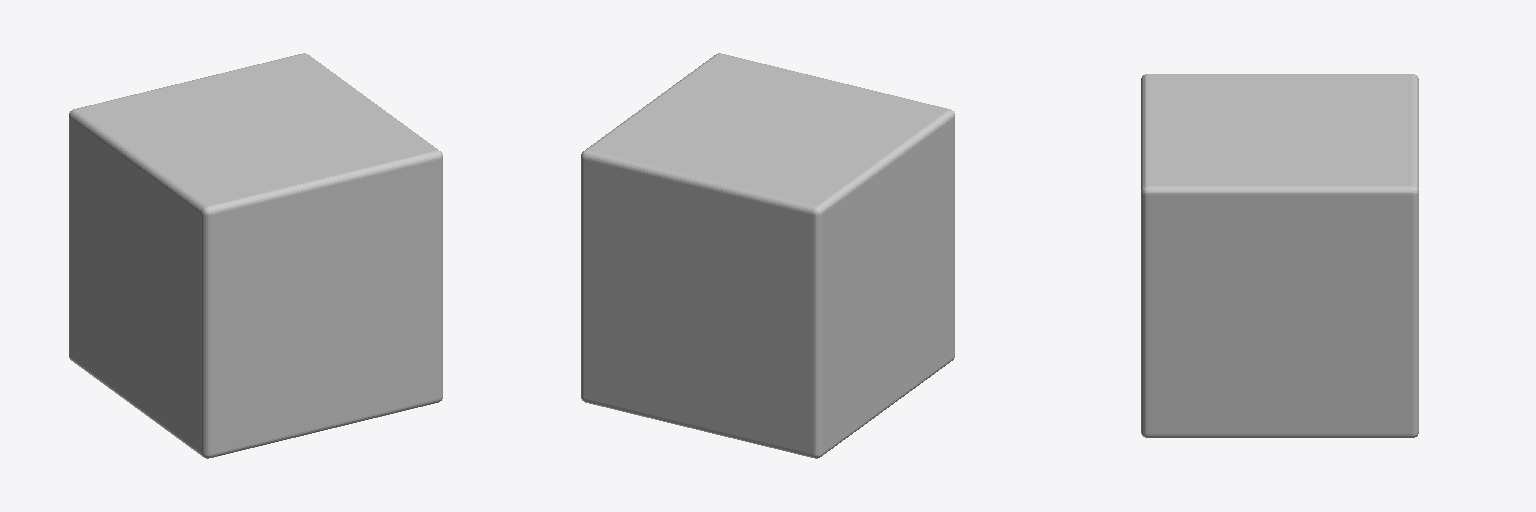
Rendered from roundedCube05.obj.
3 renders of one model, left to right at view 1: azimuth 30°, elevation 25°; view 2: azimuth 150°, elevation 25°; view 3: azimuth 270°, elevation 25°, orthographic.
Visible parts, largest first — view 1: Cube; view 2: Cube; view 3: Cube.
Part boxes in pixels (left/top/right/bottom): Cube: left=69, top=53, right=442, bottom=458; Cube: left=581, top=53, right=954, bottom=458; Cube: left=1141, top=74, right=1418, bottom=437.
Bounding box in the file's own units: 1 × 1 × 1.